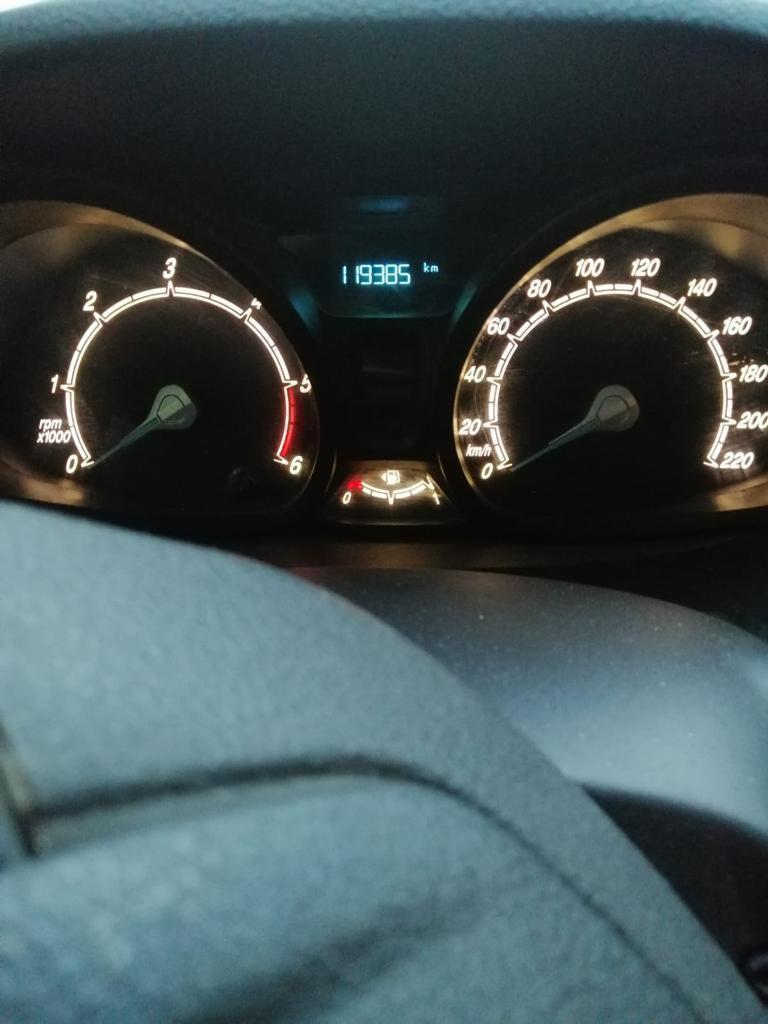1: (340, 264, 348, 285), (353, 264, 359, 284)
3: (372, 263, 384, 285)
5: (398, 263, 411, 285)
8: (384, 263, 397, 285)
9: (359, 263, 372, 285)
X: (423, 260, 430, 273), (430, 264, 439, 272)
odometer: (275, 232, 482, 321)
